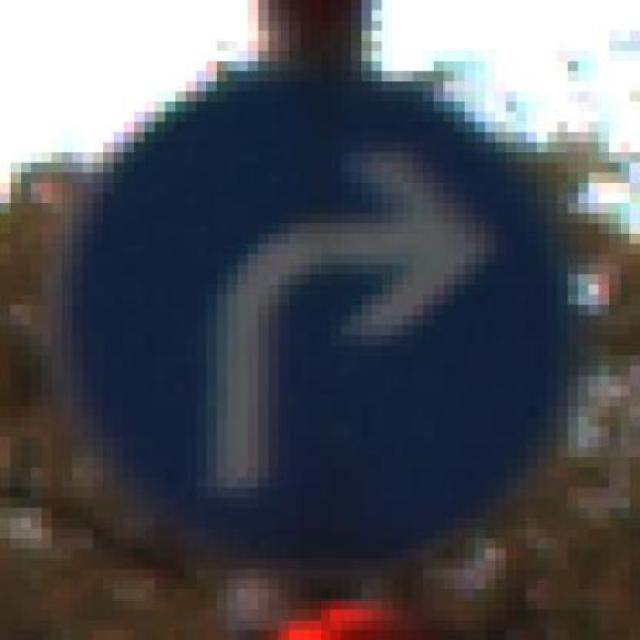Turn right ahead: (72, 61, 598, 559)
